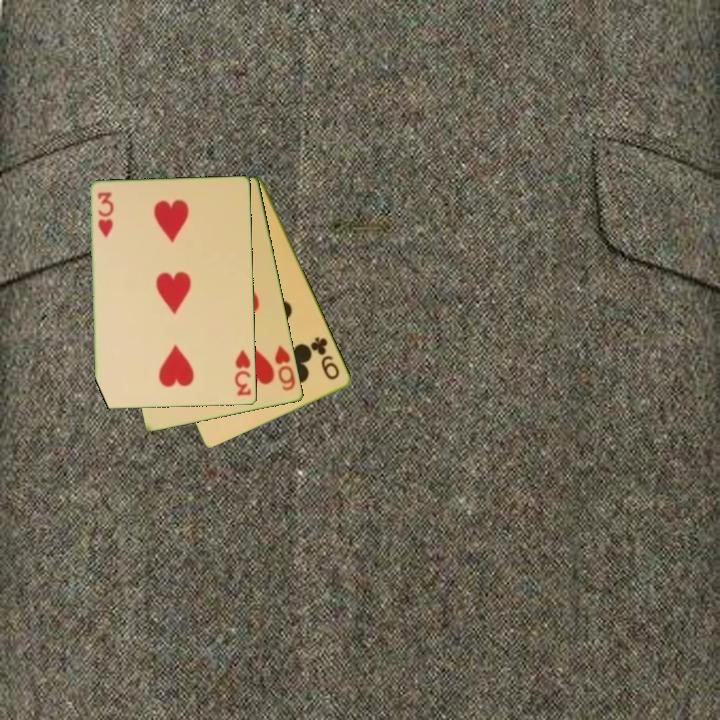3h: (232, 347, 254, 399), (95, 189, 116, 241)
6h: (271, 342, 298, 394)
9c: (308, 333, 343, 383)
